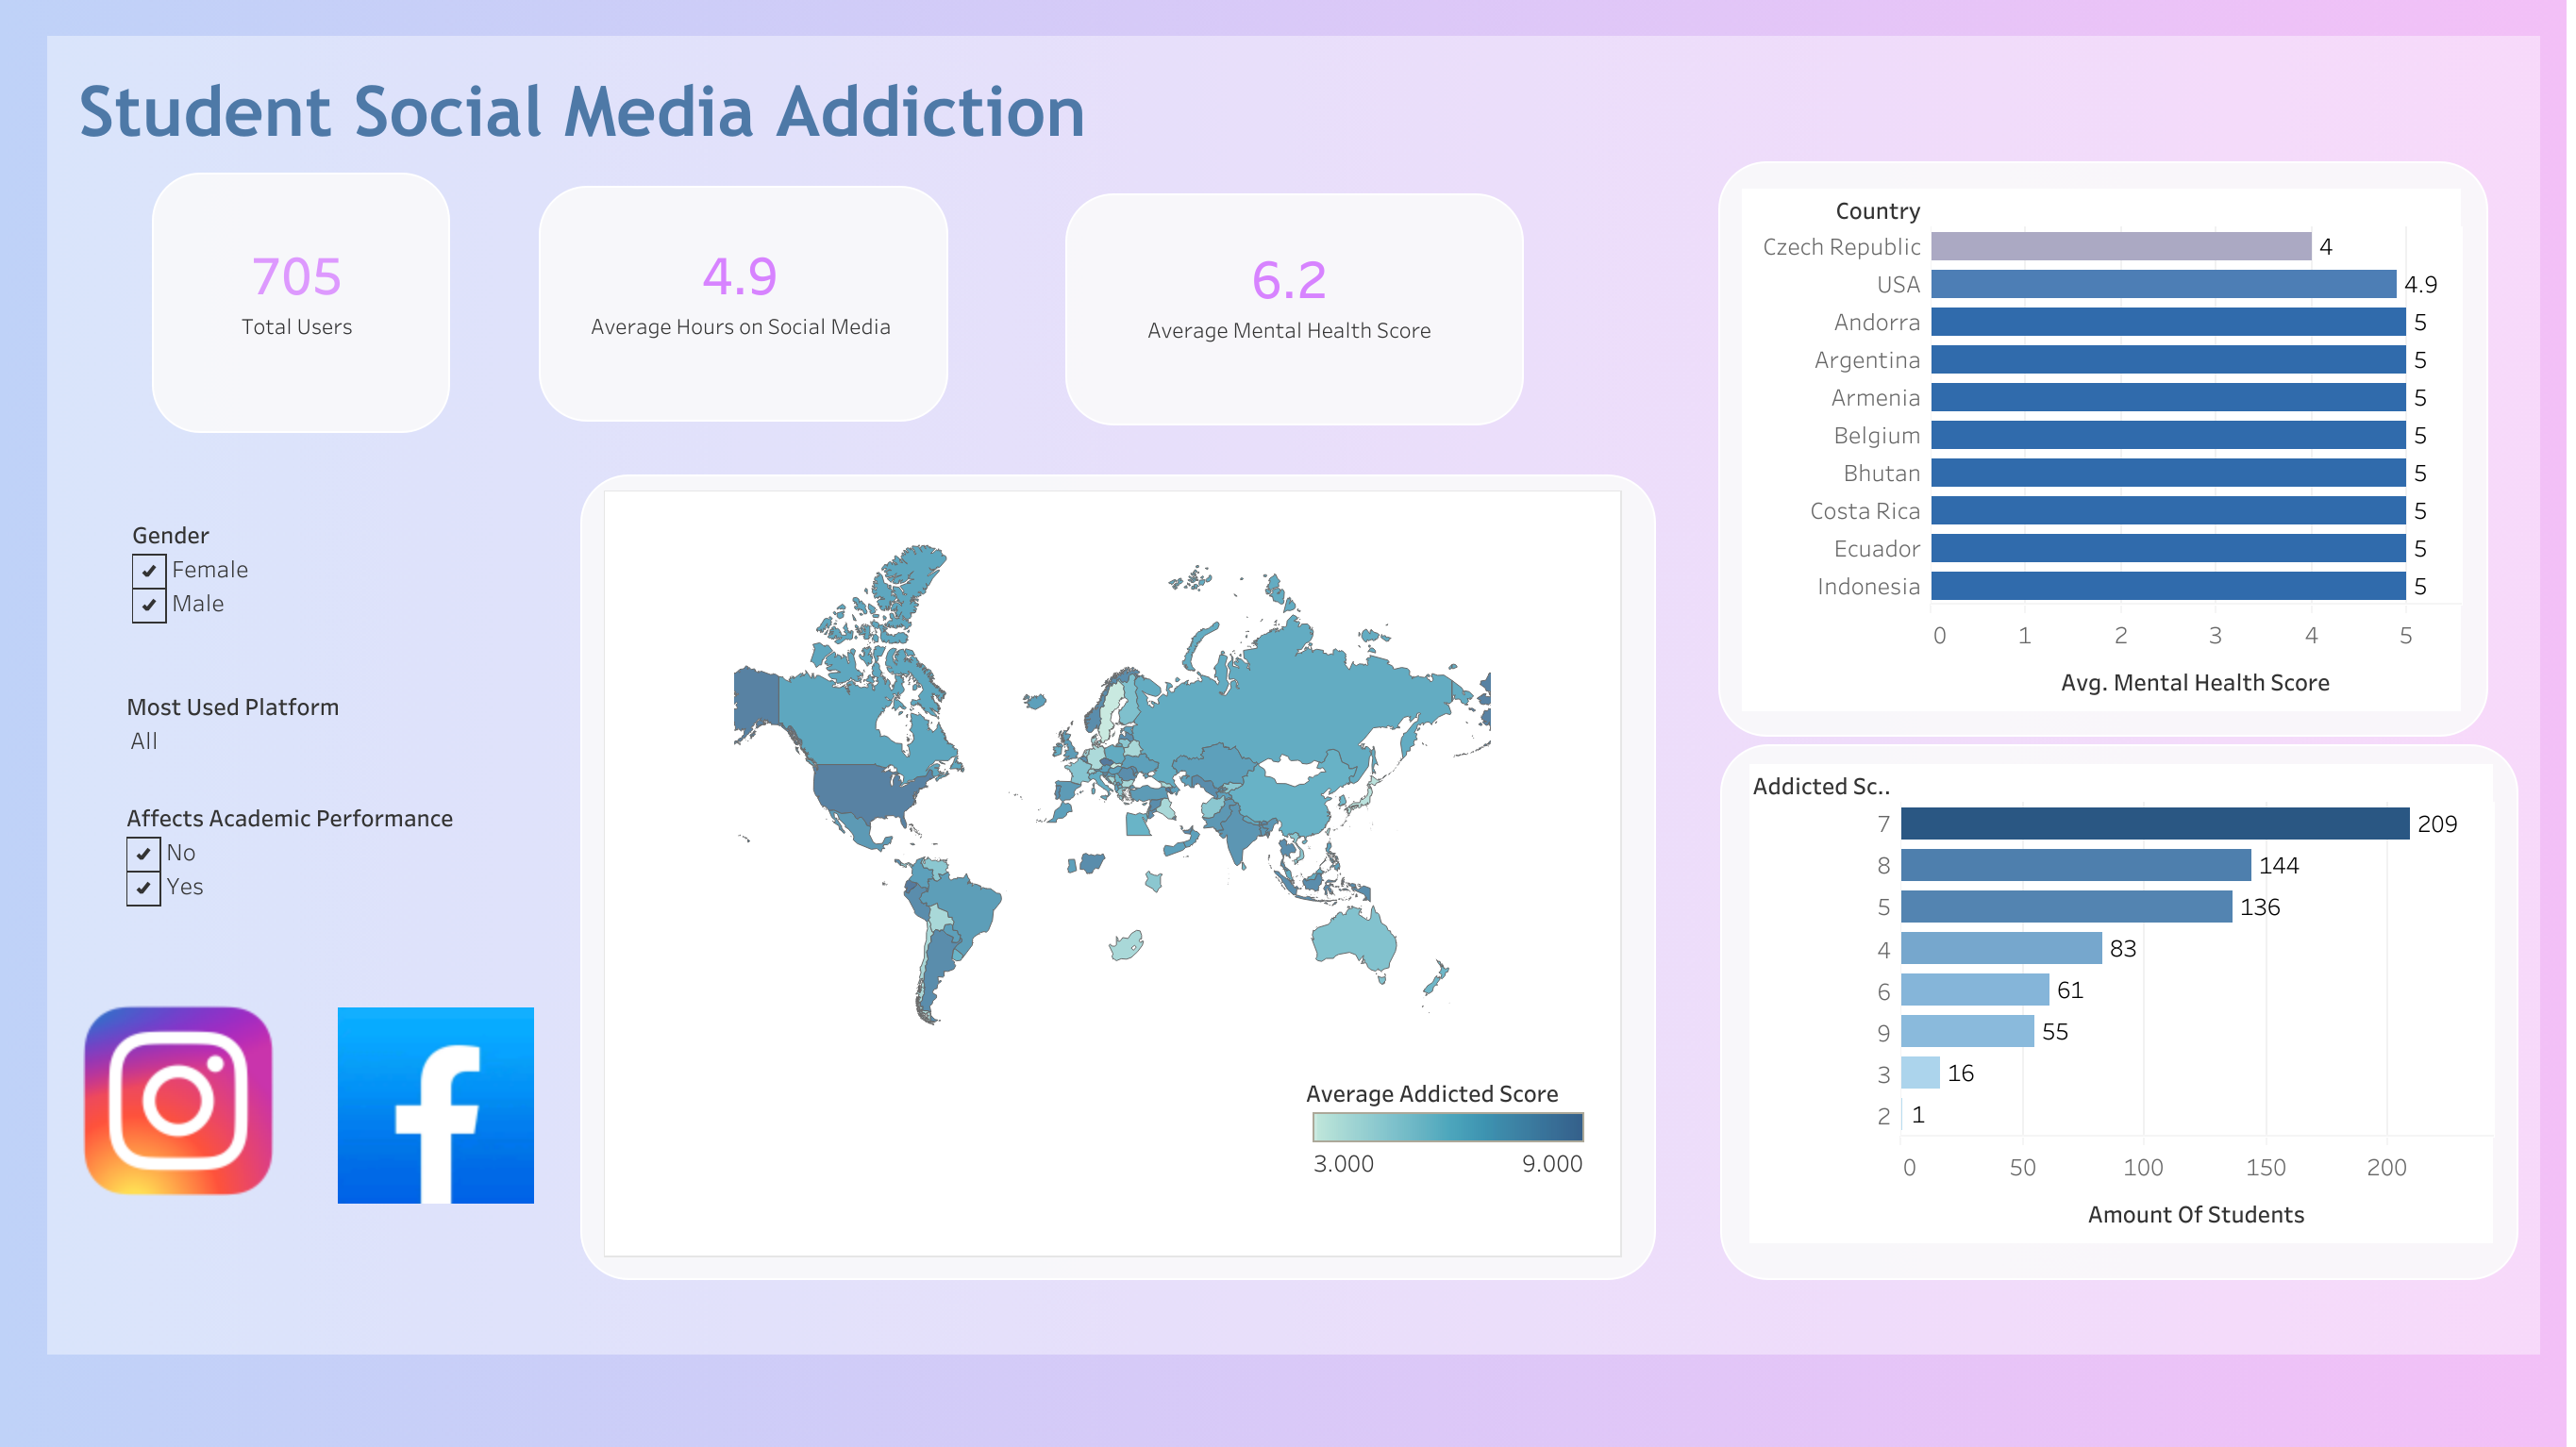

What the dashboard file says about the page in this screenshot:
{"tool":"tableau","page":{"name":"social media","canvas":[1000,1000],"units":"permille","ordinal":0},"visuals":[{"type":"image","param":"/Users/nartmachfj/Downloads/Blue - Pink Background.png","box":[0,0,1000,1000]},{"type":"worksheet","title":"box","mark":"Automatic","box":[0,0,1000,1000]},{"type":"text","box":[28.6,16.5,439.2,119.3]},{"type":"worksheet","title":"Sheet 7","mark":"Automatic","rows":["Country"],"cols":["Mental_Health_Score"],"box":[675.6,130.8,278.9,366.5]},{"type":"worksheet","title":"KPI 1","mark":"Automatic","box":[79.4,134.5,86.6,128.2]},{"type":"worksheet","title":"KPI 2","mark":"Automatic","box":[212.9,144.7,167.6,137.1]},{"type":"worksheet","title":"KPI 3","mark":"Automatic","box":[433.7,162.4,131.8,86.3]},{"type":"worksheet","title":"Addicted Per Country","mark":"Automatic","box":[234,338.8,395.4,529.2]},{"type":"filter","title":"Addicted","param":"[federated.11twuuy1b93hzb1bdpcop114kstr].[none:Gender:nk]","box":[51.6,355.6,126.7,116.2]},{"type":"filter","title":"Addicted","param":"[federated.11twuuy1b93hzb1bdpcop114kstr].[none:Most_Used_Platform:nk]","box":[49.2,473.4,127.1,88.8]},{"type":"worksheet","title":"Addicted","mark":"Automatic","rows":["Addicted_Score"],"cols":["Student_ID"],"box":[678.9,527.9,288.3,329.9]},{"type":"filter","title":"Addicted","param":"[federated.11twuuy1b93hzb1bdpcop114kstr].[none:Affects_Academic_Performance:nk]","box":[48.8,550.4,137.4,109]},{"type":"image","param":"/Users/nartmachfj/Downloads/churn solo project/instagram.png","box":[32.6,694.2,89.8,130.7]},{"type":"image","param":"/Users/nartmachfj/Downloads/churn solo project/facebook.png","box":[131.1,695.4,77,135.8]},{"type":"legend","title":"Addicted Per Country","param":"[federated.11twuuy1b93hzb1bdpcop114kstr].[avg:Addicted_Score:qk]","box":[506.4,737.3,111.8,96.5]}]}

Visuals, with their boxes on the dashboard's canvas, which has no fixed pixel size, in thousandths of its width and height (x1, y1, x2, y2). These are canvas units, not pixel positions in the 2576x1447 screenshot, which may show the page scaled, cropped or inside an application window:
image: {"left": 0, "top": 0, "right": 1000, "bottom": 1000}
"box" worksheet: {"left": 0, "top": 0, "right": 1000, "bottom": 1000}
text: {"left": 29, "top": 16, "right": 468, "bottom": 136}
"Sheet 7" worksheet: {"left": 676, "top": 131, "right": 954, "bottom": 497}
"KPI 1" worksheet: {"left": 79, "top": 134, "right": 166, "bottom": 263}
"KPI 2" worksheet: {"left": 213, "top": 145, "right": 380, "bottom": 282}
"KPI 3" worksheet: {"left": 434, "top": 162, "right": 566, "bottom": 249}
"Addicted Per Country" worksheet: {"left": 234, "top": 339, "right": 629, "bottom": 868}
"Addicted" filter: {"left": 52, "top": 356, "right": 178, "bottom": 472}
"Addicted" filter: {"left": 49, "top": 473, "right": 176, "bottom": 562}
"Addicted" worksheet: {"left": 679, "top": 528, "right": 967, "bottom": 858}
"Addicted" filter: {"left": 49, "top": 550, "right": 186, "bottom": 659}
image: {"left": 33, "top": 694, "right": 122, "bottom": 825}
image: {"left": 131, "top": 695, "right": 208, "bottom": 831}
"Addicted Per Country" legend: {"left": 506, "top": 737, "right": 618, "bottom": 834}
